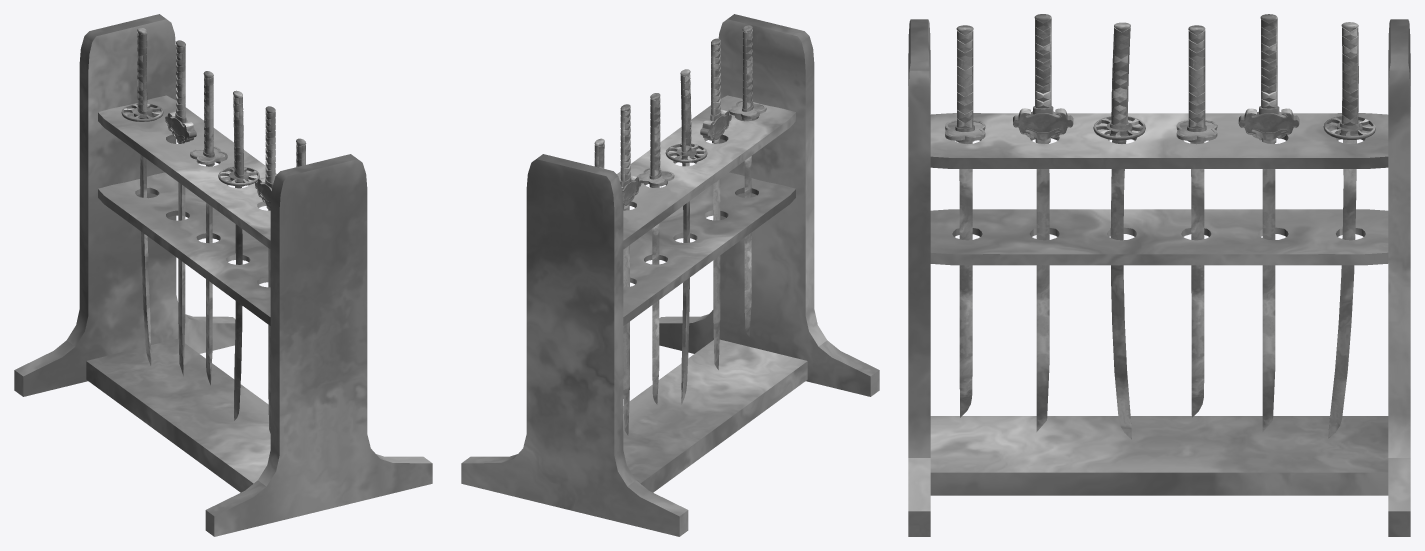
The model's file is sm_support_weapons_02.fbx.
3 views of the same model, side by side, from view 1: azimuth 30°, elevation 25°; view 2: azimuth 150°, elevation 25°; view 3: azimuth 270°, elevation 25° (orthographic). The views are drawn at different scales.
Parts seen in each view (by area): view 1: sm_support_weapons_02; view 2: sm_support_weapons_02; view 3: sm_support_weapons_02.
Part boxes in pixels (x1,y1,x2,y2): sm_support_weapons_02: [14, 14, 432, 536]; sm_support_weapons_02: [461, 14, 879, 536]; sm_support_weapons_02: [908, 14, 1410, 536].
Size of the model in its own units: 99.87 by 159 by 159.
Materials: 2 (2 with a texture image).
